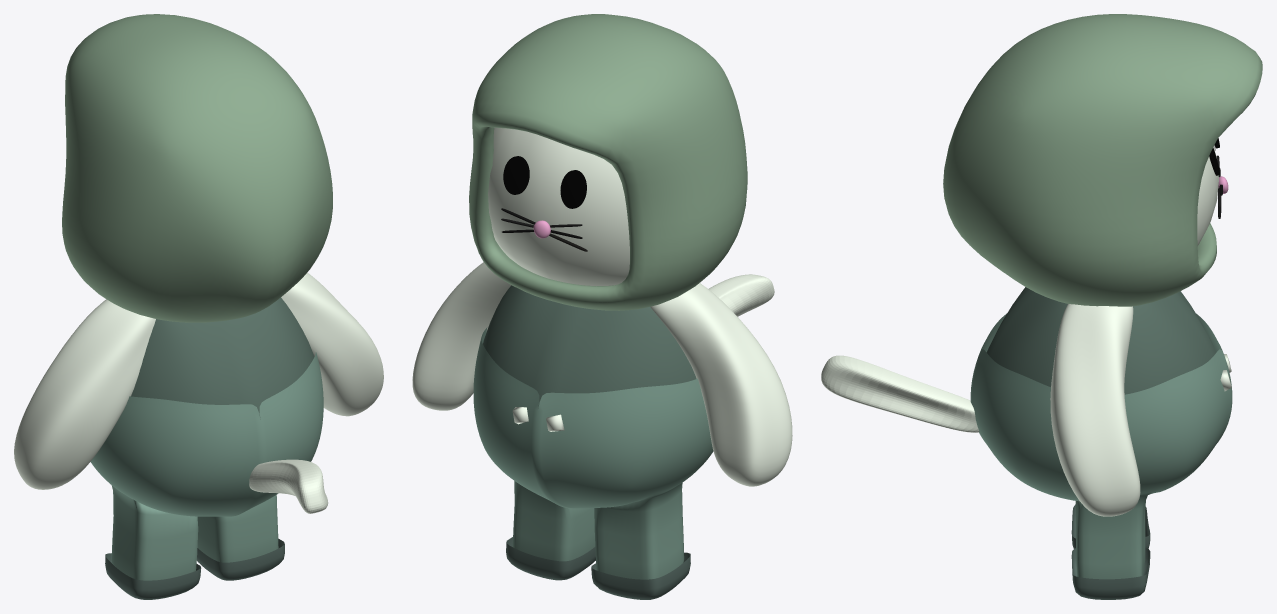
The model's file is cat.gltf.
3 renders of one model, left to right at view 1: azimuth 30°, elevation 25°; view 2: azimuth 150°, elevation 25°; view 3: azimuth 270°, elevation 25°, orthographic. The views are drawn at different scales.
Parts seen in each view (by area): view 1: Cube.001, Cube.025, Cube.003, Cube.002, Cube.023, Cube.013; view 2: Cube.001, Cube.025, Cube.003, Cube.002, Cube.029, Cube.023, Cube.013, Cylinder; view 3: Cube.001, Cube.025, Cube.003, Cube.002, Cube.013, Cube.023, Cube.029.
Boxes of the visible parts, left/top/right/bottom form: Cube.001: left=62, top=14, right=332, bottom=322; Cube.025: left=90, top=352, right=323, bottom=580; Cube.003: left=14, top=272, right=383, bottom=489; Cube.002: left=131, top=297, right=314, bottom=419; Cube.023: left=105, top=538, right=284, bottom=599; Cube.013: left=249, top=459, right=328, bottom=513; Cube.001: left=469, top=14, right=747, bottom=310; Cube.025: left=473, top=327, right=713, bottom=579; Cube.003: left=412, top=262, right=792, bottom=486; Cube.002: left=483, top=285, right=696, bottom=408; Cube.029: left=488, top=127, right=629, bottom=286; Cube.023: left=506, top=537, right=690, bottom=599; Cube.013: left=708, top=274, right=774, bottom=316; Cylinder: left=503, top=156, right=586, bottom=208; Cube.001: left=943, top=14, right=1262, bottom=306; Cube.025: left=970, top=313, right=1232, bottom=579; Cube.003: left=1050, top=304, right=1140, bottom=516; Cube.002: left=986, top=287, right=1216, bottom=394; Cube.013: left=821, top=355, right=979, bottom=432; Cube.023: left=1071, top=504, right=1150, bottom=599; Cube.029: left=1197, top=147, right=1218, bottom=245.
Bounding box in the file's own units: 1.7 × 2.47 × 1.83.
